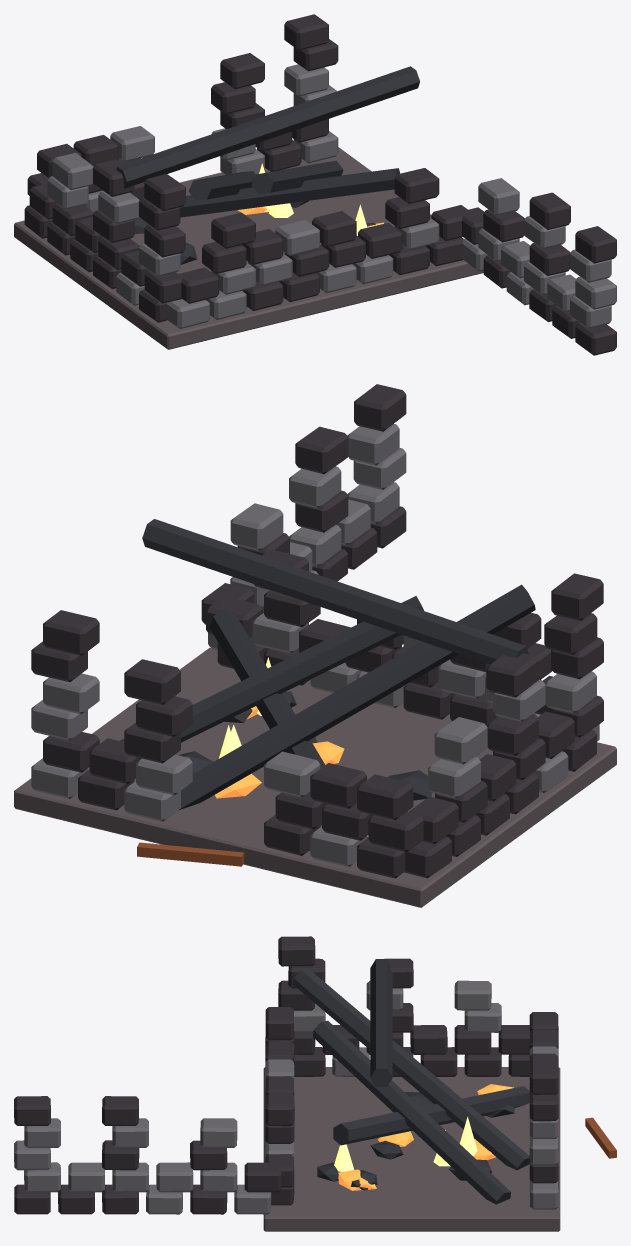
Rendered from CharredHut.fbx.
3 renders of one model, top to bottom at view 1: azimuth 30°, elevation 25°; view 2: azimuth 150°, elevation 25°; view 3: azimuth 270°, elevation 25°, orthographic. The views are drawn at different scales.
Visible parts, largest first — view 1: CharredHut_Basalt, CharredHut_StoneDark, CharredHut_Charcoal, CharredHut_BasaltLight, CharredHut_Fire; view 2: CharredHut_Basalt, CharredHut_StoneDark, CharredHut_Charcoal, CharredHut_BasaltLight, CharredHut_Rust, CharredHut_Ember; view 3: CharredHut_Basalt, CharredHut_BasaltLight, CharredHut_Charcoal, CharredHut_StoneDark, CharredHut_Ember, CharredHut_Fire, CharredHut_Rust.
Boxes of the visible parts, x1,y1,x2,y2 form: CharredHut_Basalt: [24, 14, 616, 355]; CharredHut_StoneDark: [47, 64, 616, 328]; CharredHut_Charcoal: [116, 66, 419, 264]; CharredHut_BasaltLight: [14, 147, 483, 349]; CharredHut_Fire: [259, 163, 367, 235]; CharredHut_Basalt: [31, 384, 603, 878]; CharredHut_StoneDark: [31, 424, 599, 866]; CharredHut_Charcoal: [120, 519, 535, 838]; CharredHut_BasaltLight: [14, 647, 616, 907]; CharredHut_Rust: [137, 842, 244, 866]; CharredHut_Ember: [215, 706, 368, 836]; CharredHut_Basalt: [14, 936, 558, 1214]; CharredHut_BasaltLight: [263, 1067, 560, 1231]; CharredHut_Charcoal: [293, 959, 529, 1204]; CharredHut_StoneDark: [14, 980, 558, 1214]; CharredHut_Ember: [338, 1084, 513, 1190]; CharredHut_Fire: [334, 1116, 477, 1171]; CharredHut_Rust: [585, 1117, 616, 1158].
Size of the model in its own units: 17.6 by 8.47 by 29.66.
